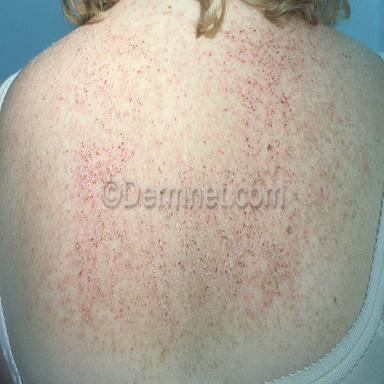Darier_s-Disease: (48, 22, 329, 357)
